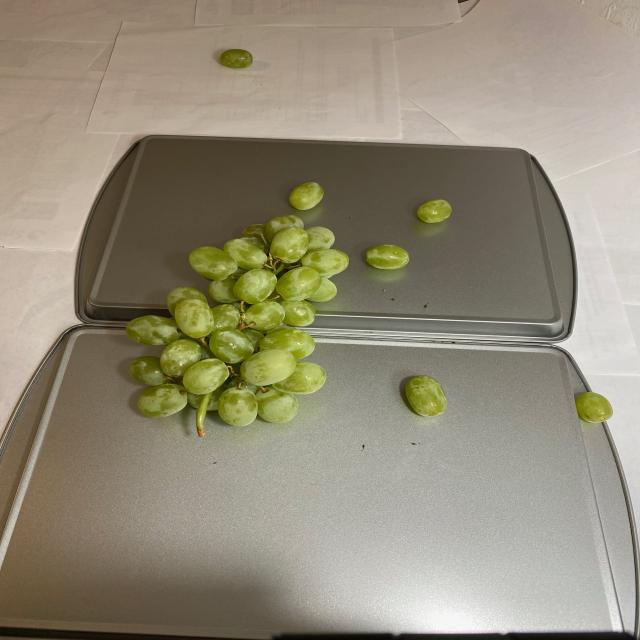grapes: (123, 179, 454, 439), (571, 387, 615, 427), (218, 46, 253, 73)
